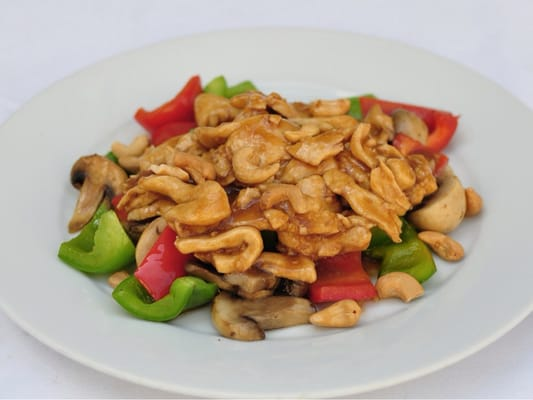curry: (0, 12, 527, 396)
